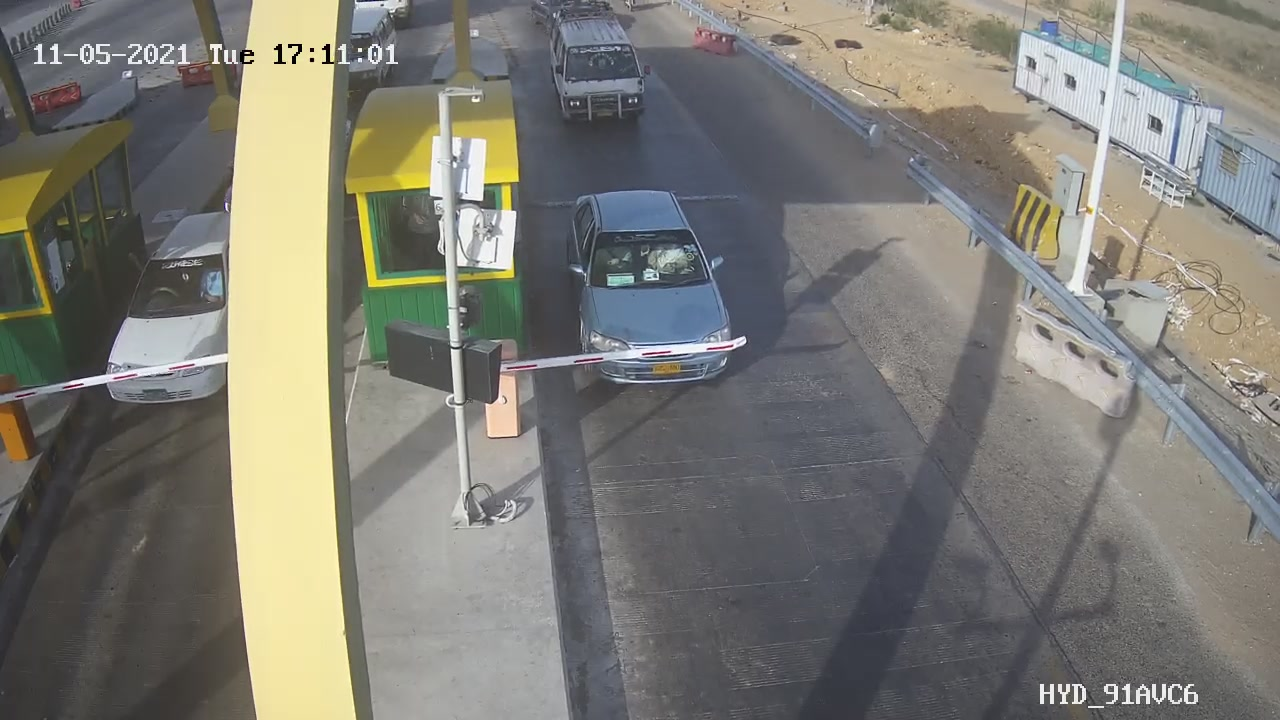F1: (547, 178, 737, 397)
F2: (537, 3, 665, 139)
